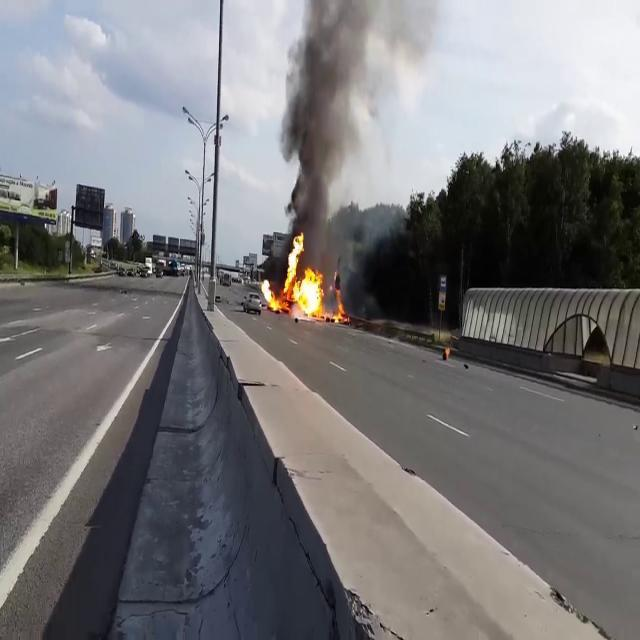Fire: (261, 232, 329, 317)
Smoke: (280, 0, 382, 239)
